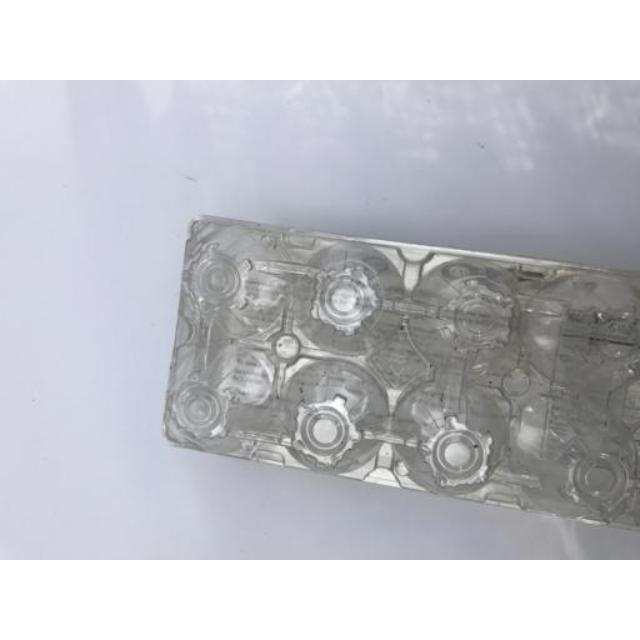plastic: (163, 217, 639, 528)
